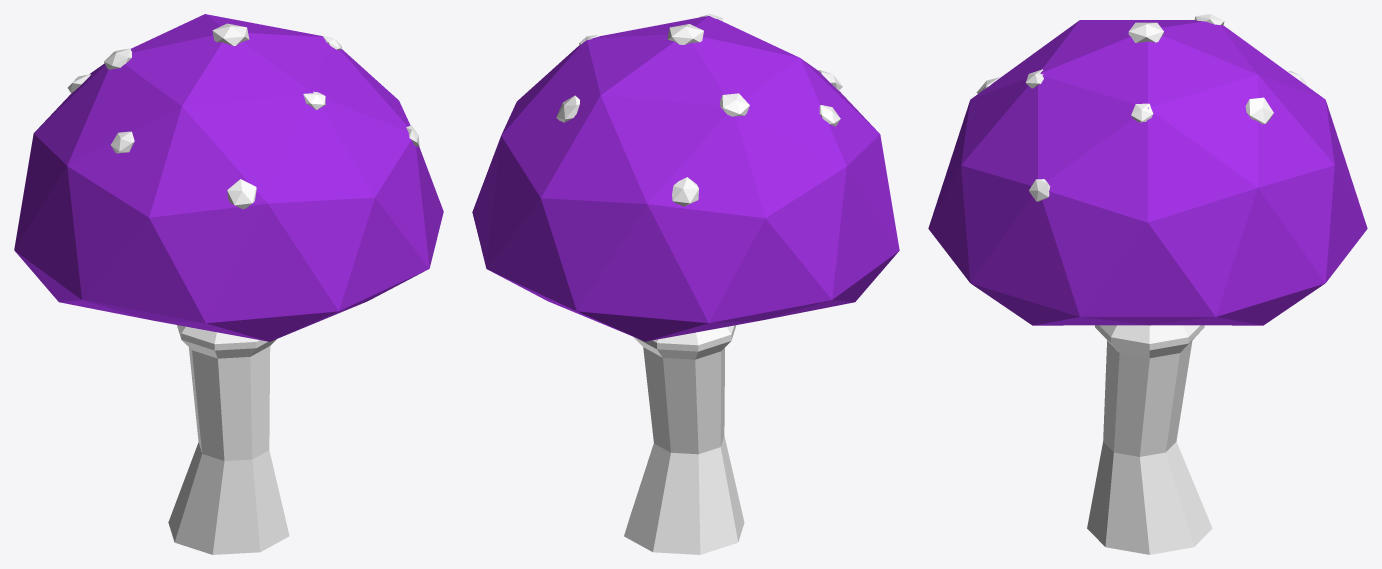
The model's file is mushroom-1-p.glb.
The picture shows the model from 3 angles, left to right: view 1: azimuth 30°, elevation 25°; view 2: azimuth 150°, elevation 25°; view 3: azimuth 270°, elevation 25°; orthographic projection.
Visible parts, largest first — view 1: pasted__Mushroom5_3; view 2: pasted__Mushroom5_3; view 3: pasted__Mushroom5_3.
Part boxes in pixels (x1=…): pasted__Mushroom5_3: x1=14, y1=14, x2=443, y2=554; pasted__Mushroom5_3: x1=472, y1=14, x2=899, y2=554; pasted__Mushroom5_3: x1=928, y1=14, x2=1367, y2=554.
Bounding box in the file's own units: 0.4816 × 0.6414 × 0.5064.
